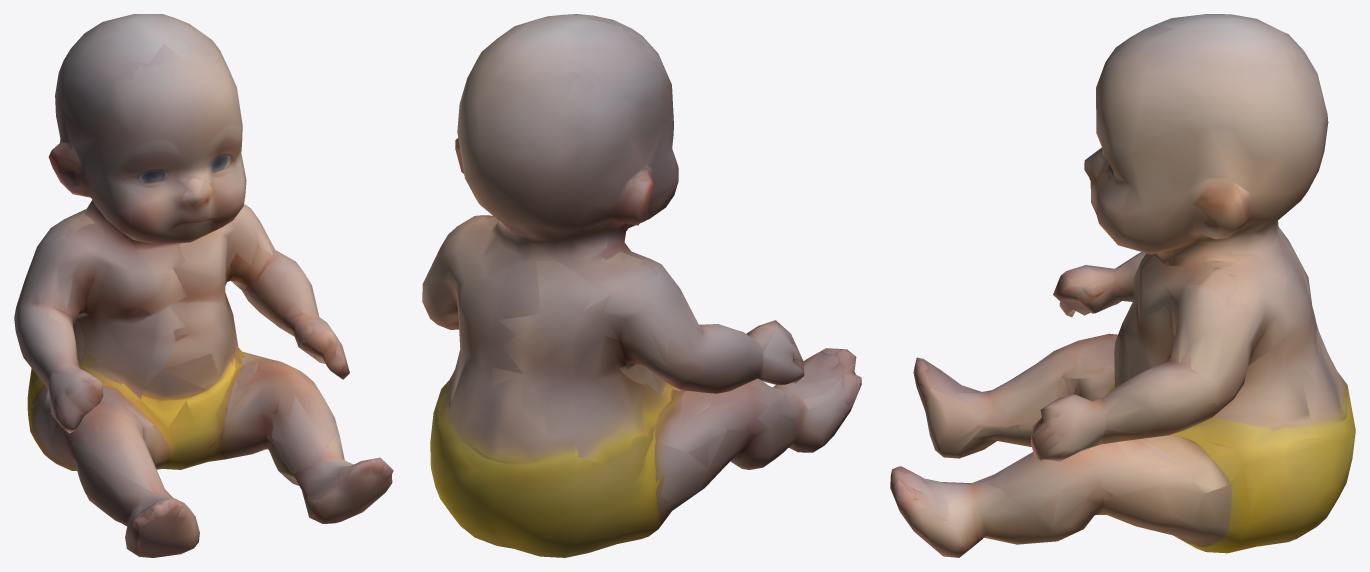
The model's file is baby.fbx.
The picture shows the model from 3 angles, left to right: view 1: azimuth 30°, elevation 25°; view 2: azimuth 150°, elevation 25°; view 3: azimuth 270°, elevation 25°; orthographic projection. The views are drawn at different scales.
Visible parts, largest first — view 1: Mesh_0; view 2: Mesh_0; view 3: Mesh_0.
Boxes of the visible parts, left/top/right/bottom form: Mesh_0: left=14, top=14, right=393, bottom=557; Mesh_0: left=422, top=14, right=861, bottom=557; Mesh_0: left=890, top=14, right=1355, bottom=557.
Size of the model in its own units: 81.36 by 120 by 101.
1 material, 1 textured.
